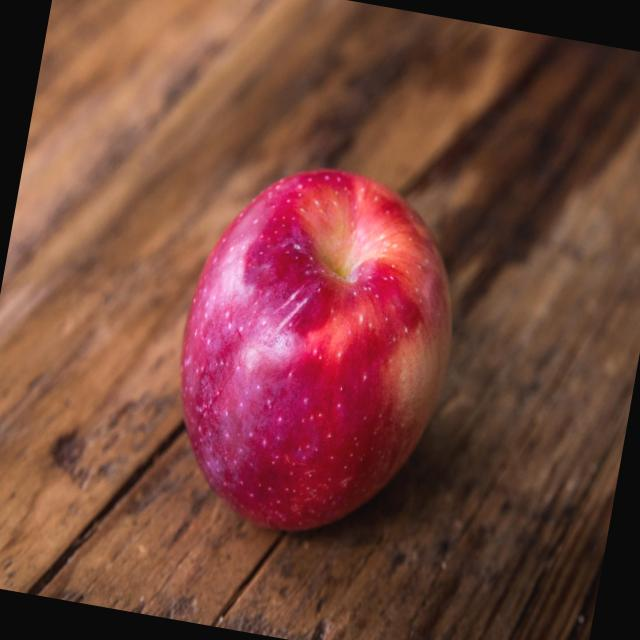apple: (142, 139, 480, 576)
